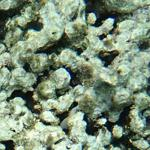dead: (1, 3, 148, 147)
